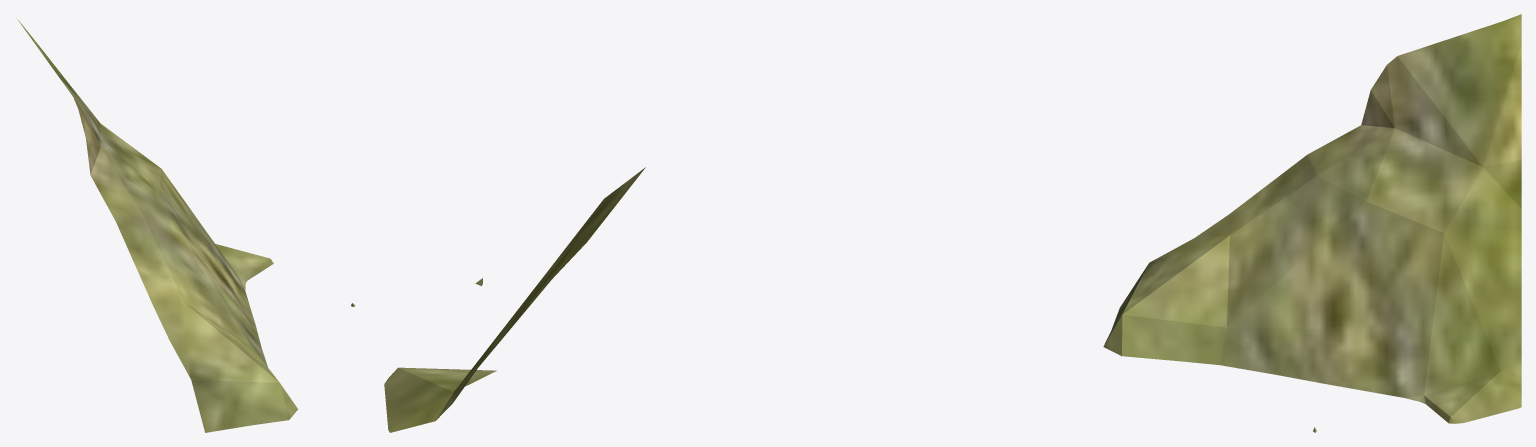
The picture shows the model from 3 angles, left to right: view 1: azimuth 30°, elevation 25°; view 2: azimuth 150°, elevation 25°; view 3: azimuth 270°, elevation 25°; orthographic projection. The views are drawn at different scales.
Size of the model in its own units: 0.8514 by 0.9325 by 1.2.
1 material, 1 textured.
